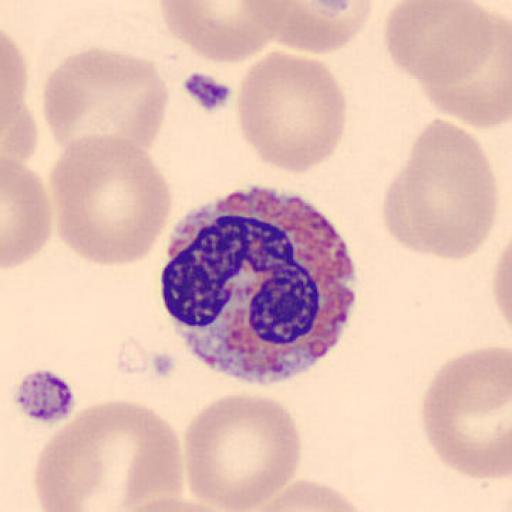Platelet: (9, 366, 78, 425), (180, 68, 235, 115)
RBC: (49, 131, 173, 268), (35, 397, 184, 511), (382, 118, 498, 262), (385, 0, 512, 130), (40, 45, 172, 157), (182, 390, 303, 512), (236, 51, 350, 175), (419, 344, 512, 481), (384, 0, 508, 89), (158, 0, 281, 65), (242, 0, 375, 55), (2, 158, 52, 271), (237, 476, 382, 512), (0, 30, 37, 164), (104, 491, 237, 512), (114, 495, 247, 512), (492, 244, 512, 329), (302, 0, 376, 20)
WBC: (160, 184, 359, 384)
